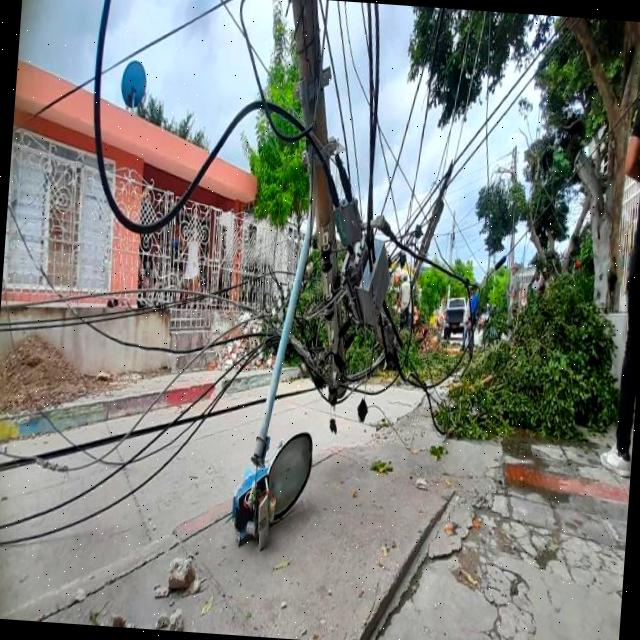Broken Pole: (289, 0, 351, 399)
